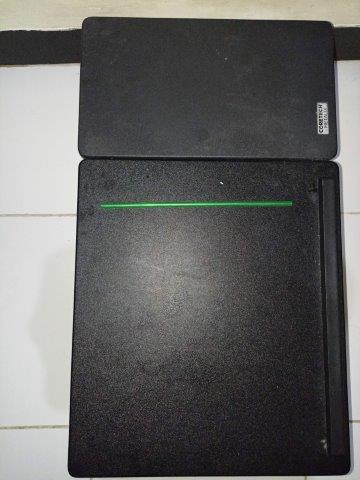sedotan: (101, 201, 292, 208)
